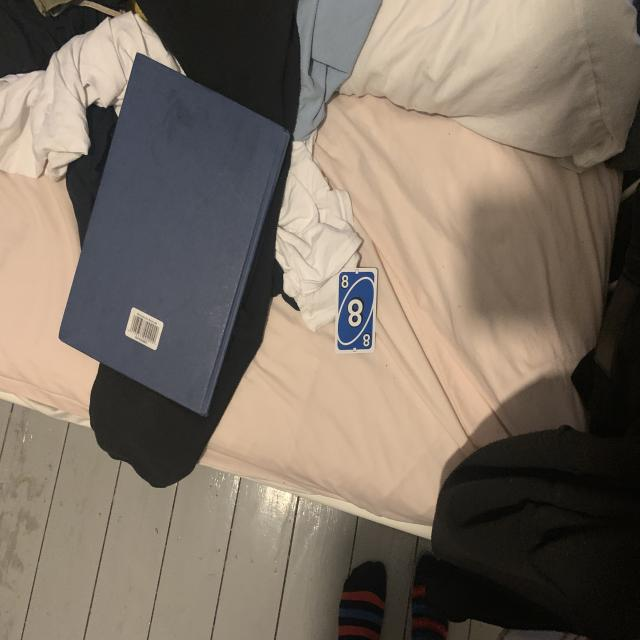lblue-8: (339, 271, 352, 293)
